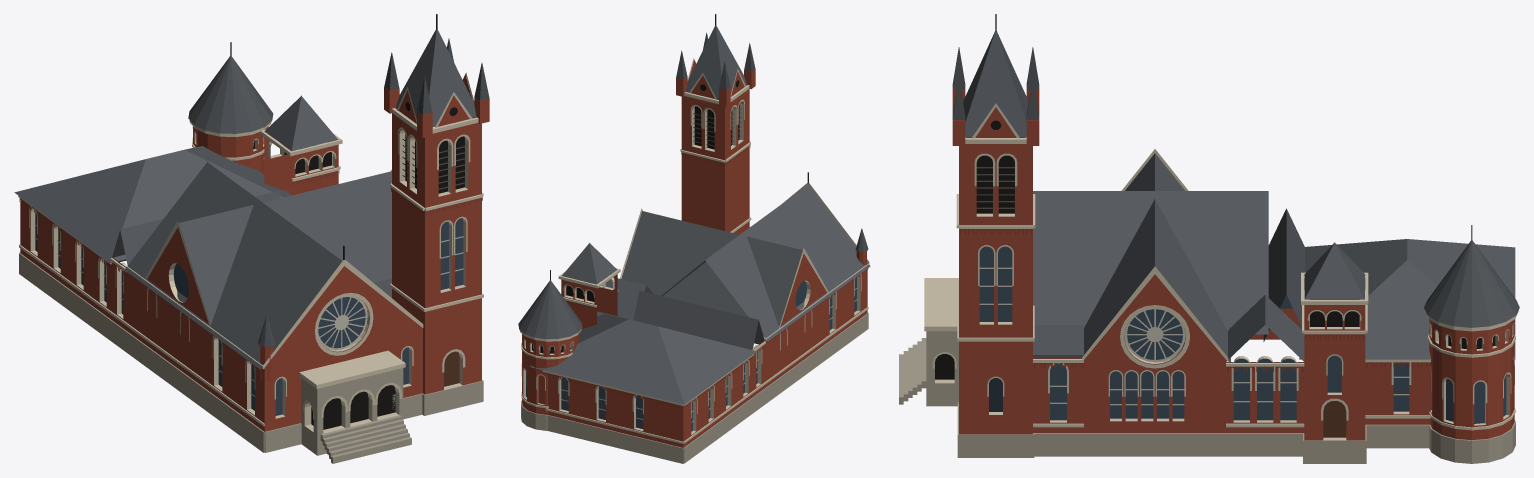
File: ch-first-methodist-1913.glb
3 renders of one model, left to right at view 1: azimuth 30°, elevation 25°; view 2: azimuth 150°, elevation 25°; view 3: azimuth 270°, elevation 25°, orthographic. The views are drawn at different scales.
Visible parts, largest first — view 1: ch_slate, ch_brick, ch_trim, ch_base, ch_stain, ch_cone, ch_shadow, ch_slate2, ch_lead, ch_brick2, ch_door; view 2: ch_slate, ch_brick, ch_trim, ch_base, ch_cone, ch_stain, ch_shadow, ch_brick2, ch_slate2; view 3: ch_slate, ch_brick, ch_base, ch_trim, ch_stain, ch_cone, ch_shadow, ch_lead, ch_slate2, ch_brick2, ch_door.
Boxes of the visible parts, bbox=[...] form: ch_slate: bbox=[14, 29, 476, 369]; ch_brick: bbox=[20, 74, 489, 431]; ch_trim: bbox=[18, 72, 483, 433]; ch_base: bbox=[19, 252, 483, 463]; ch_stain: bbox=[35, 211, 463, 415]; ch_cone: bbox=[188, 56, 273, 133]; ch_shadow: bbox=[253, 102, 464, 429]; ch_slate2: bbox=[258, 38, 489, 346]; ch_lead: bbox=[34, 224, 463, 396]; ch_brick2: bbox=[19, 170, 482, 372]; ch_door: bbox=[444, 351, 459, 386]; ch_slate: bbox=[530, 25, 870, 404]; ch_brick: bbox=[522, 60, 867, 447]; ch_trim: bbox=[519, 58, 869, 443]; ch_base: bbox=[521, 313, 868, 463]; ch_cone: bbox=[518, 280, 582, 339]; ch_stain: bbox=[526, 277, 856, 431]; ch_shadow: bbox=[532, 80, 739, 353]; ch_brick2: bbox=[545, 145, 868, 408]; ch_slate2: bbox=[676, 32, 868, 251]; ch_slate: bbox=[963, 31, 1515, 361]; ch_brick: bbox=[952, 84, 1514, 440]; ch_base: bbox=[899, 331, 1515, 463]; ch_trim: bbox=[924, 103, 1518, 440]; ch_stain: bbox=[979, 246, 1506, 423]; ch_cone: bbox=[1424, 240, 1519, 327]; ch_shadow: bbox=[935, 120, 1495, 379]; ch_lead: bbox=[979, 267, 1409, 405]; ch_slate2: bbox=[952, 47, 1038, 119]; ch_brick2: bbox=[960, 229, 1430, 371]; ch_door: bbox=[1323, 401, 1346, 437].
Bounding box in the file's own units: 21.33 × 33.2 × 43.7.
